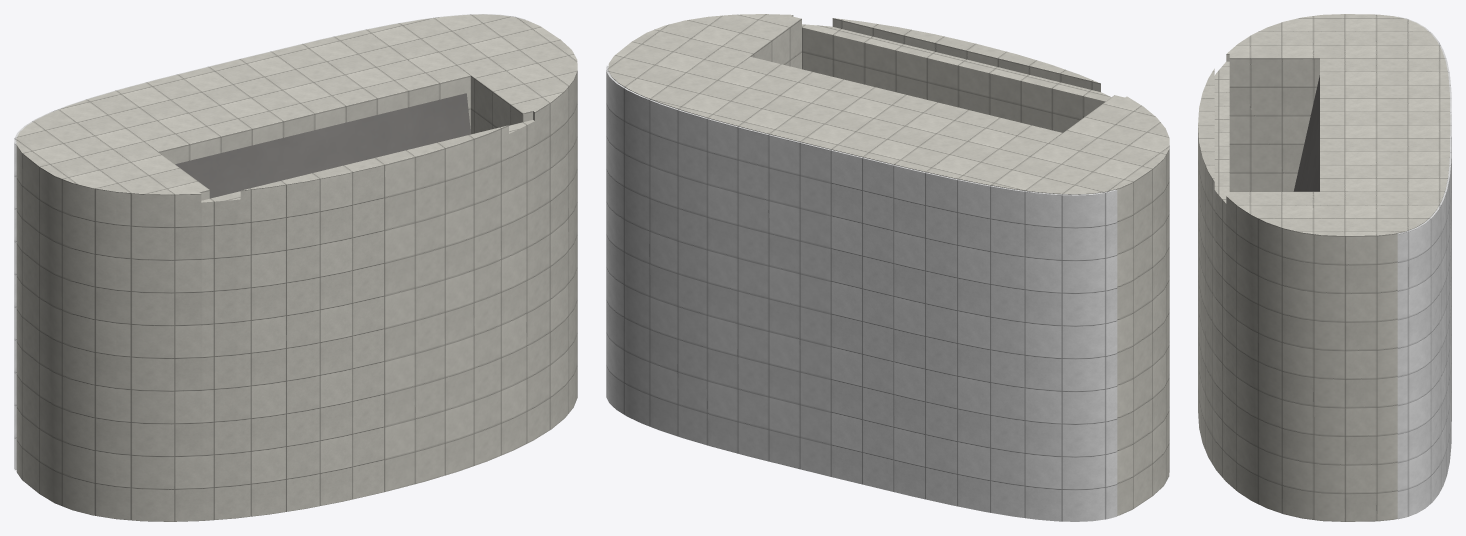
The model's file is ax_aero_33_inrp_ramp_intake.glb.
3 views of the same model, side by side, from view 1: azimuth 30°, elevation 25°; view 2: azimuth 150°, elevation 25°; view 3: azimuth 270°, elevation 25° (orthographic). The views are drawn at different scales.
Parts seen in each view (by area): view 1: fuselage, ramp, belly_tiles; view 2: belly_tiles, fuselage; view 3: fuselage, belly_tiles, ramp.
Part boxes in pixels (x1,y1,x2,y2): fuselage: (16, 14, 577, 521); ramp: (175, 93, 470, 198); belly_tiles: (14, 14, 525, 470); belly_tiles: (606, 65, 1117, 521); fuselage: (608, 14, 1169, 515); fuselage: (1198, 14, 1450, 521); belly_tiles: (1397, 16, 1451, 519); ramp: (1293, 75, 1319, 191).
Bounding box in the file's own units: 2.5 × 1.5 × 1.21.
Materials: 3 (3 with a texture image).
